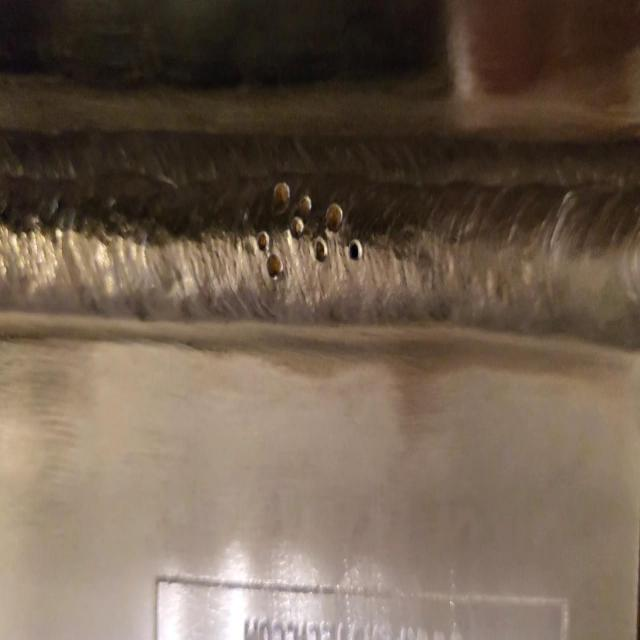Welding Line: (1, 138, 640, 318)
Workpiece: (1, 7, 640, 640)
porosity: (259, 181, 361, 279)
